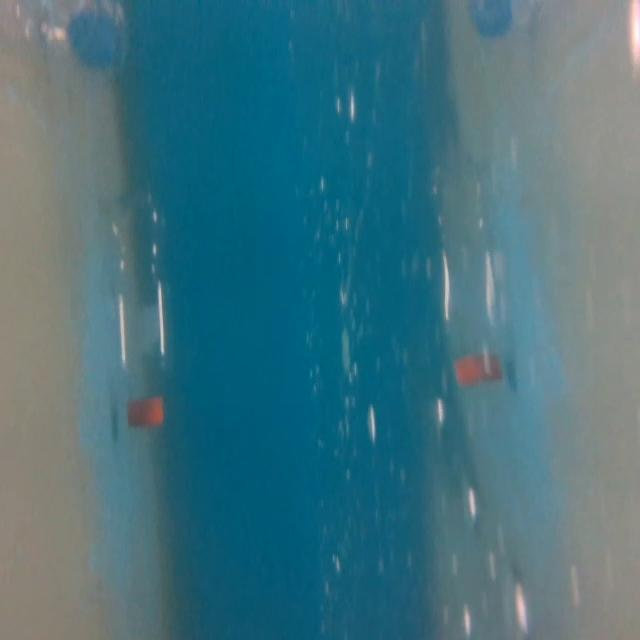plastic bottle: (95, 178, 186, 436)
